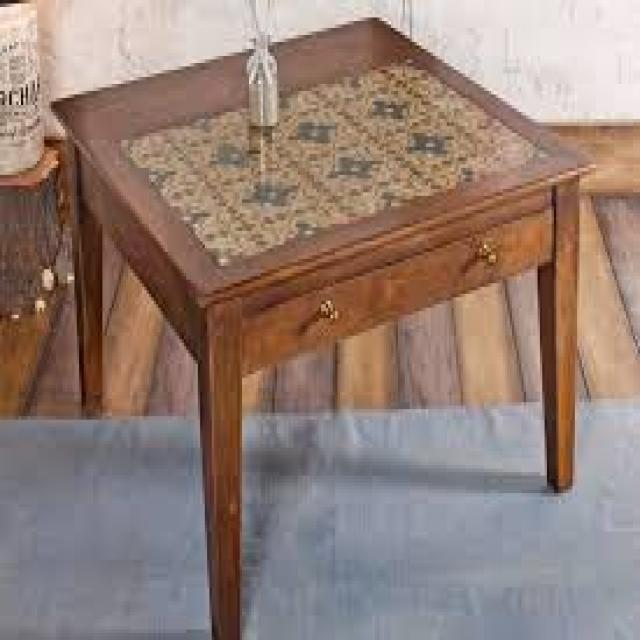obstacle: (46, 49, 602, 618)
